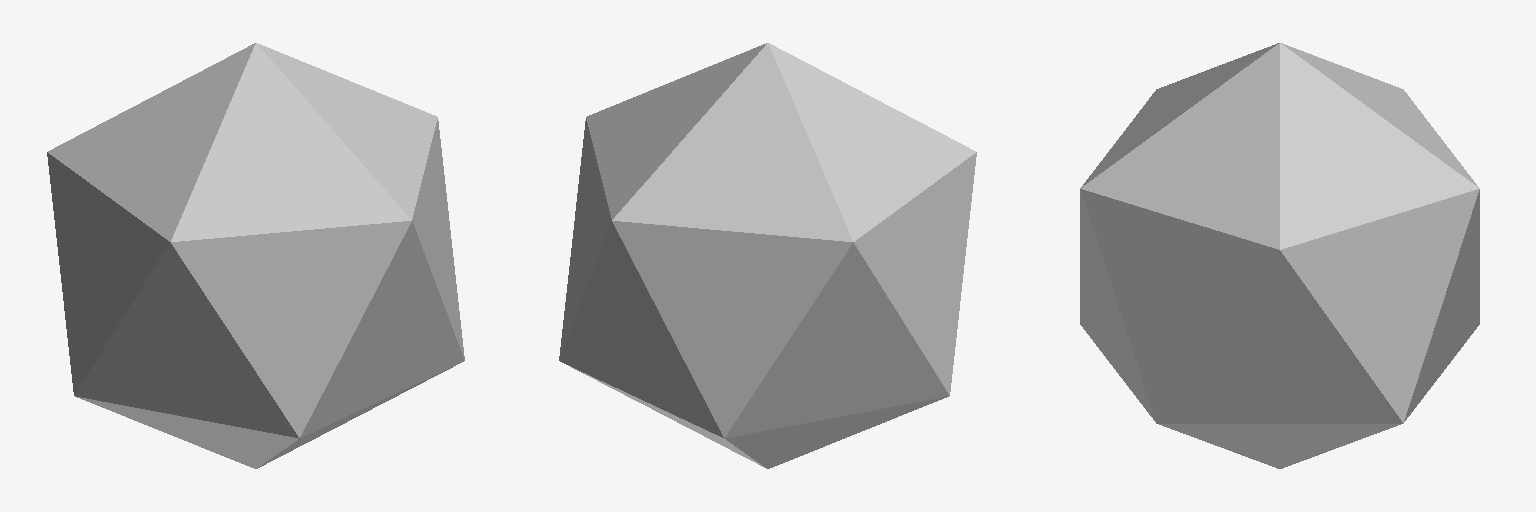
The model's file is dtwenty.obj.
3 views of the same model, side by side, from view 1: azimuth 30°, elevation 25°; view 2: azimuth 150°, elevation 25°; view 3: azimuth 270°, elevation 25° (orthographic).
Parts seen in each view (by area): view 1: Icosphere; view 2: Icosphere; view 3: Icosphere.
Boxes of the visible parts, x1,y1,x2,y2 form: Icosphere: [47, 43, 464, 468]; Icosphere: [559, 43, 976, 468]; Icosphere: [1080, 43, 1479, 468].
Size of the model in its own units: 1.79 by 2 by 1.7.